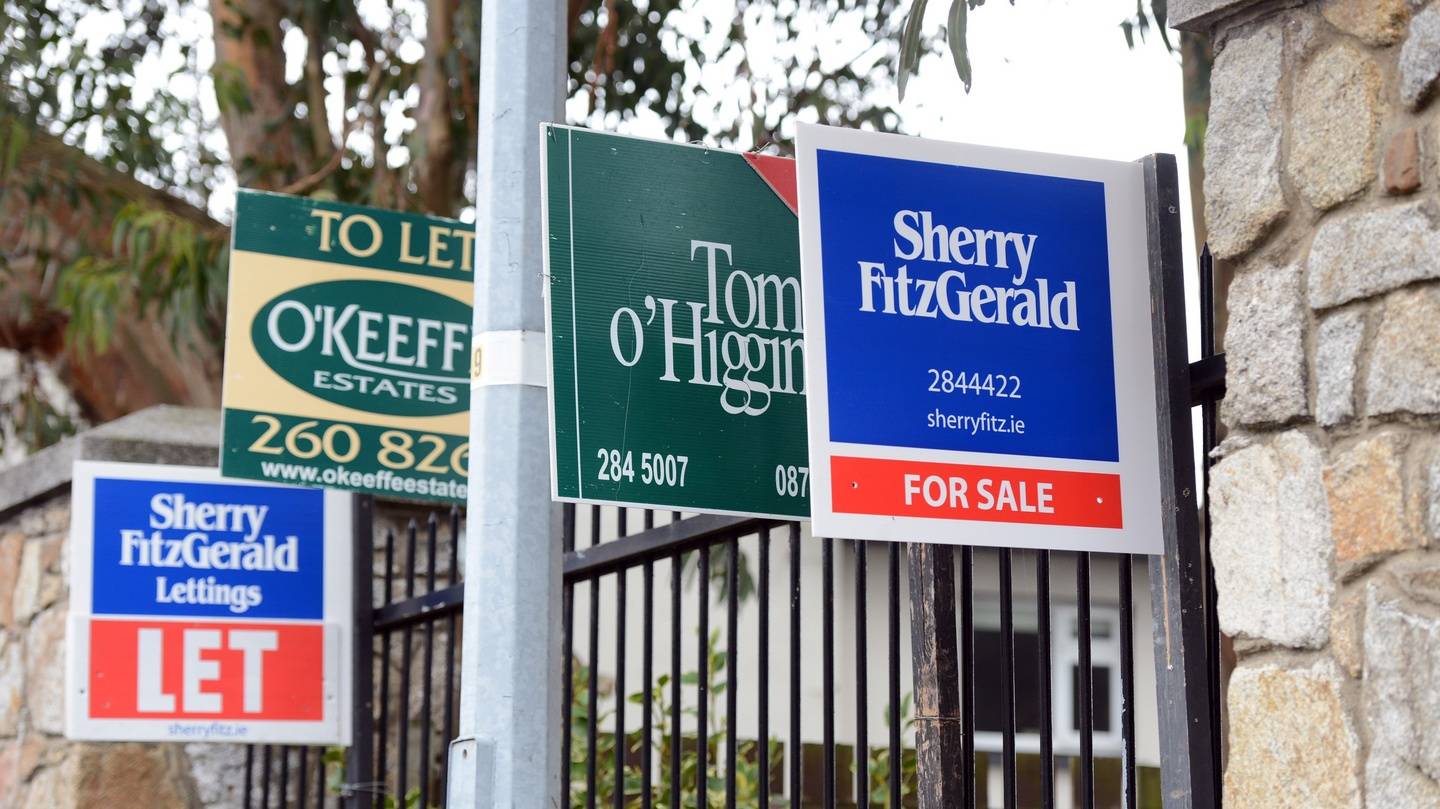property sign: (790, 98, 1182, 607), (506, 103, 845, 547), (50, 441, 394, 747), (221, 151, 500, 512)
